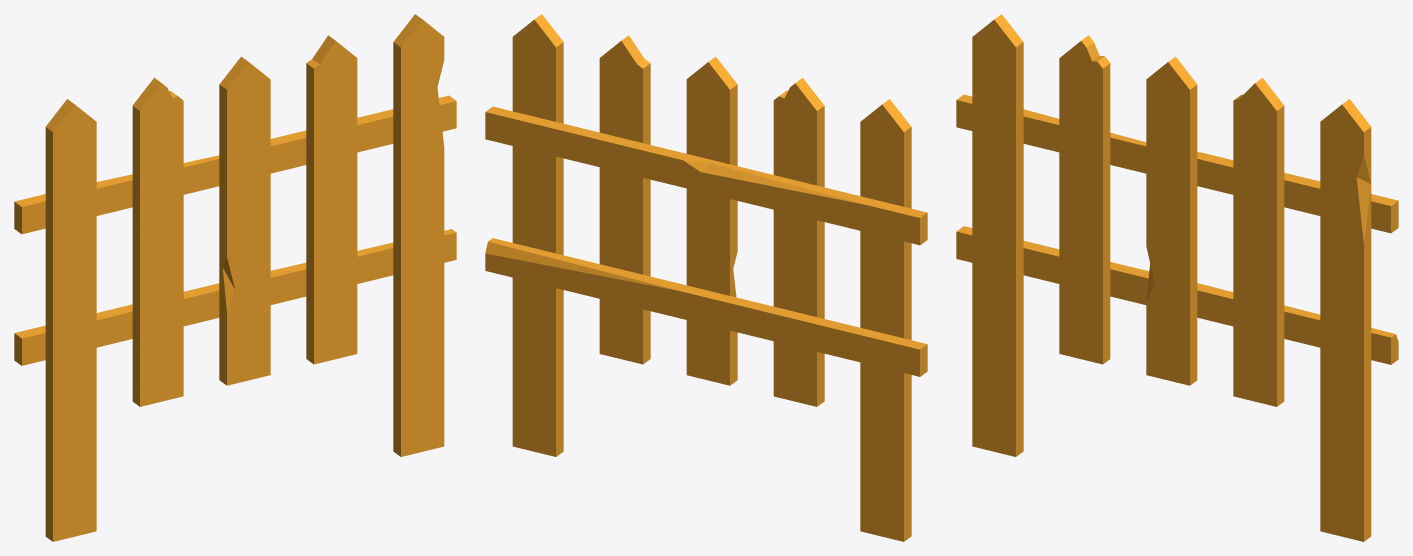
File: SM_Fence_Picket_1m.fbx
3 renders of one model, left to right at view 1: azimuth 30°, elevation 25°; view 2: azimuth 150°, elevation 25°; view 3: azimuth 330°, elevation 25°, orthographic.
Visible parts, largest first — view 1: fence-picket-1m; view 2: fence-picket-1m; view 3: fence-picket-1m.
Part boxes in pixels (x1,y1,x2,y2): fence-picket-1m: (14, 14, 456, 541); fence-picket-1m: (485, 14, 927, 541); fence-picket-1m: (956, 14, 1398, 541).
Bounding box in the file's own units: 1 × 0.9499 × 0.06.
